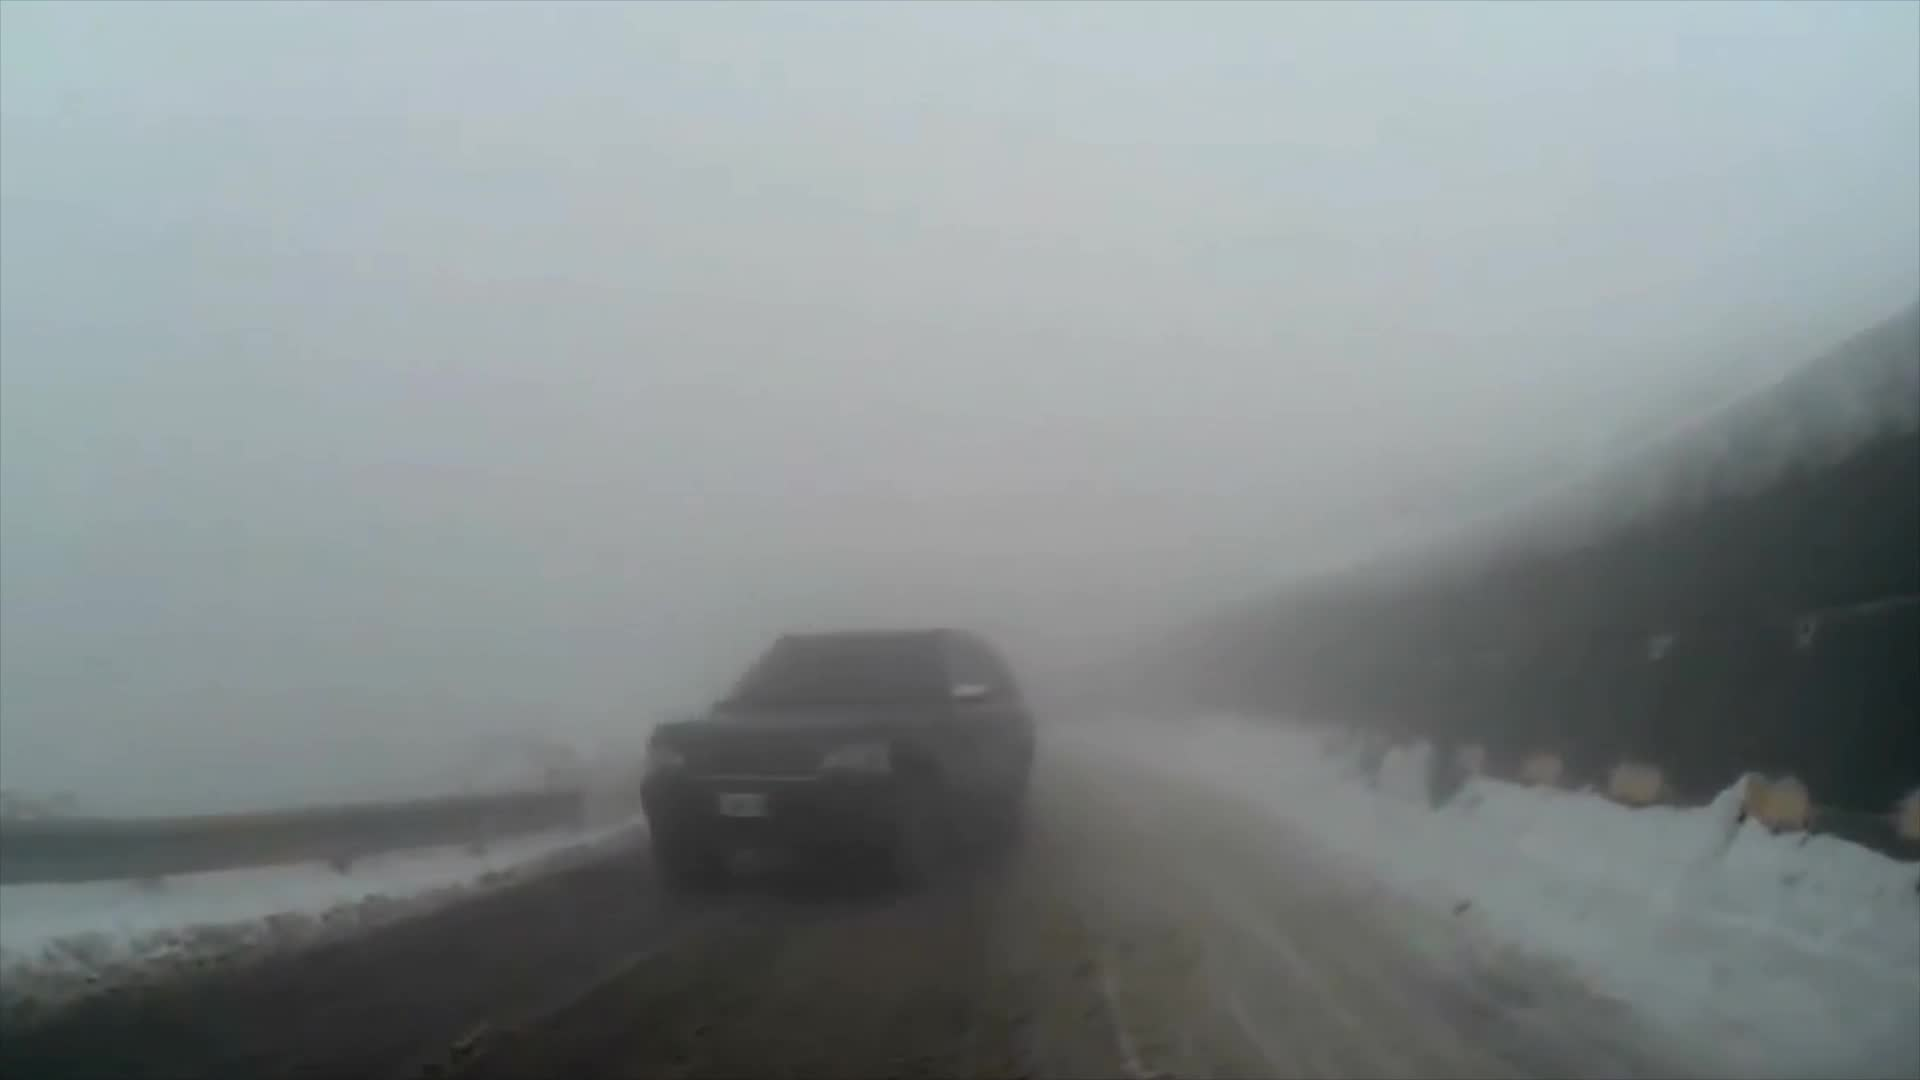vehicle: (646, 622, 1035, 898)
